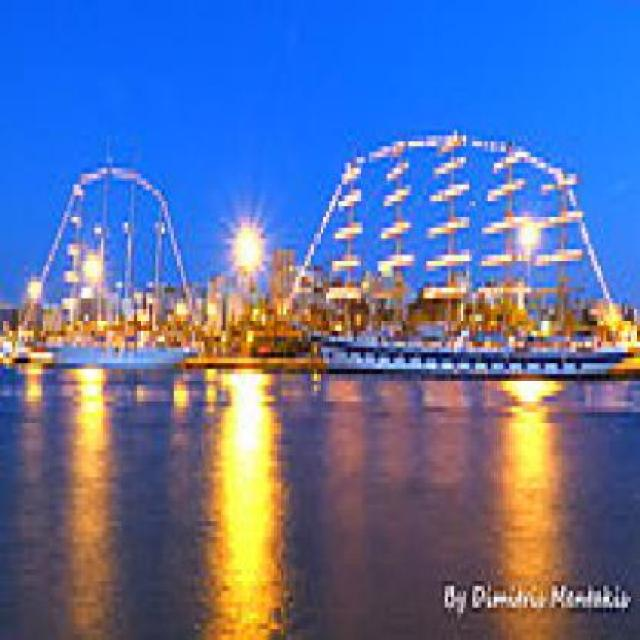cruise: (318, 299, 638, 397), (50, 310, 199, 397)
